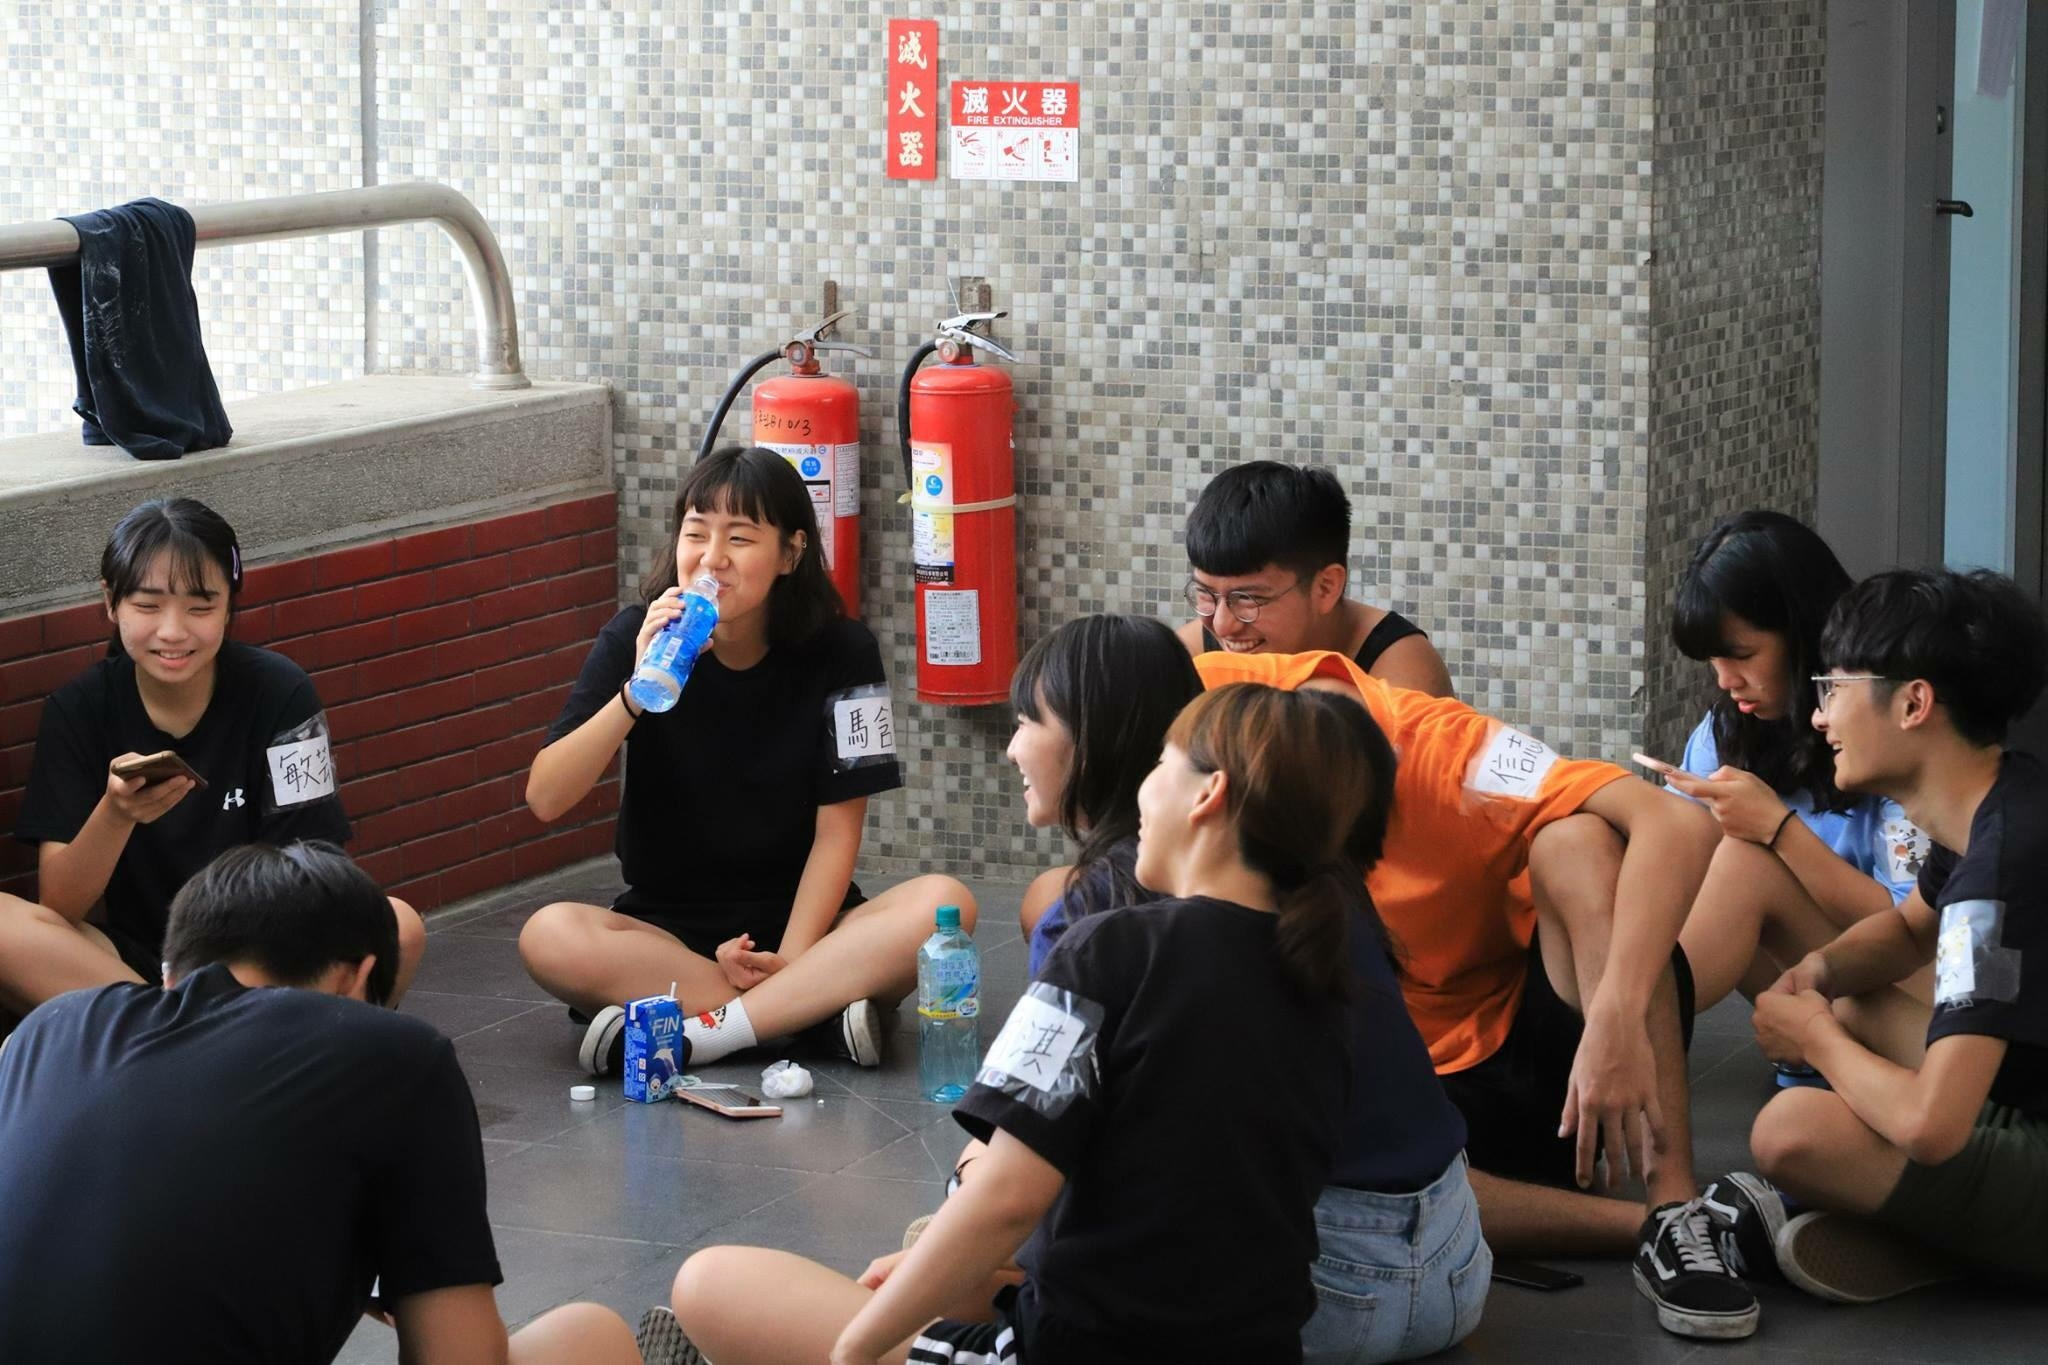people: (1007, 624, 1490, 1345), (1031, 730, 1337, 1365), (1778, 598, 2048, 1313), (52, 842, 416, 1365), (619, 483, 904, 1042), (60, 516, 328, 919), (1166, 454, 1407, 672), (1675, 519, 1849, 783)
